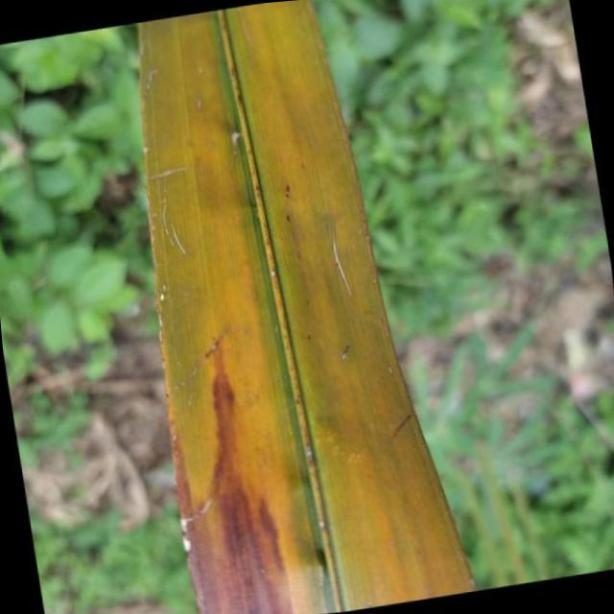Megnesium: (136, 0, 483, 614)
